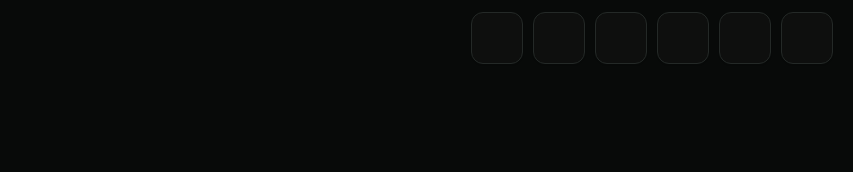
Scenario: OtpInput › fills digit by digit and completes
Click the field named "Digit 1 of 6" at coordinates (497, 38), box [471, 12, 523, 64]
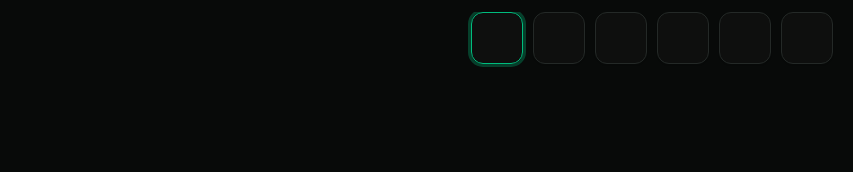
Type keys "12a3456"
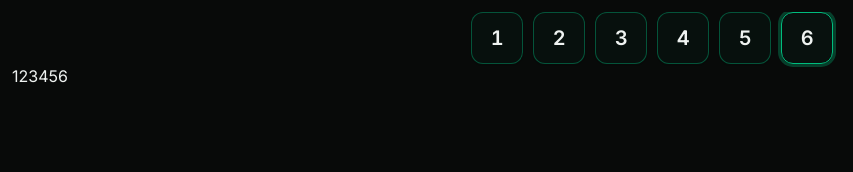
Now the text with test id "value" reads "123456", box [12, 66, 68, 86]
